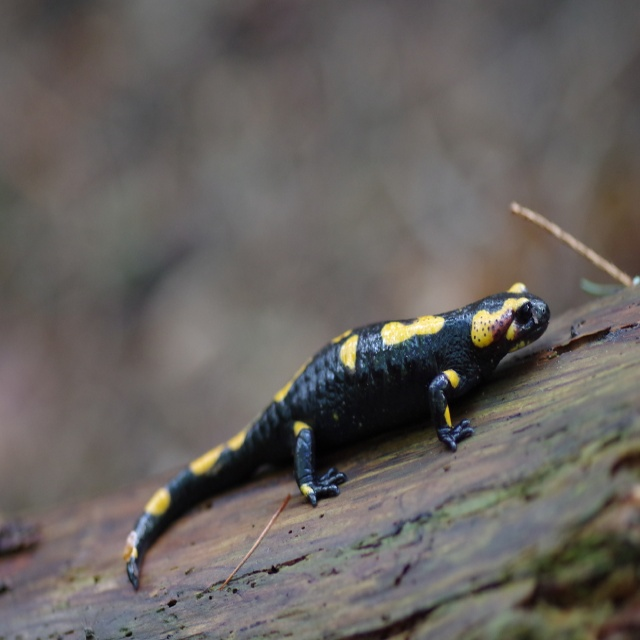Lizard: (116, 292, 552, 600)
